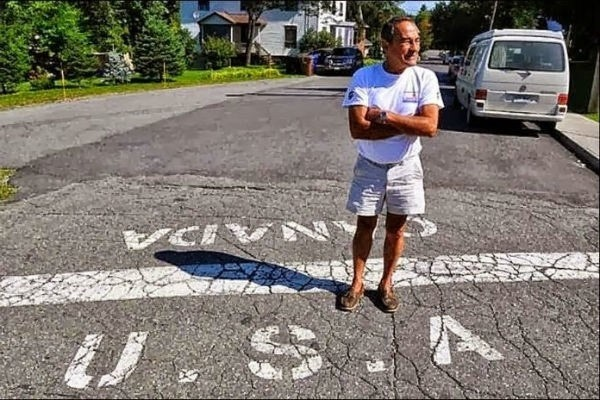face_no_mask: (377, 15, 420, 66)
